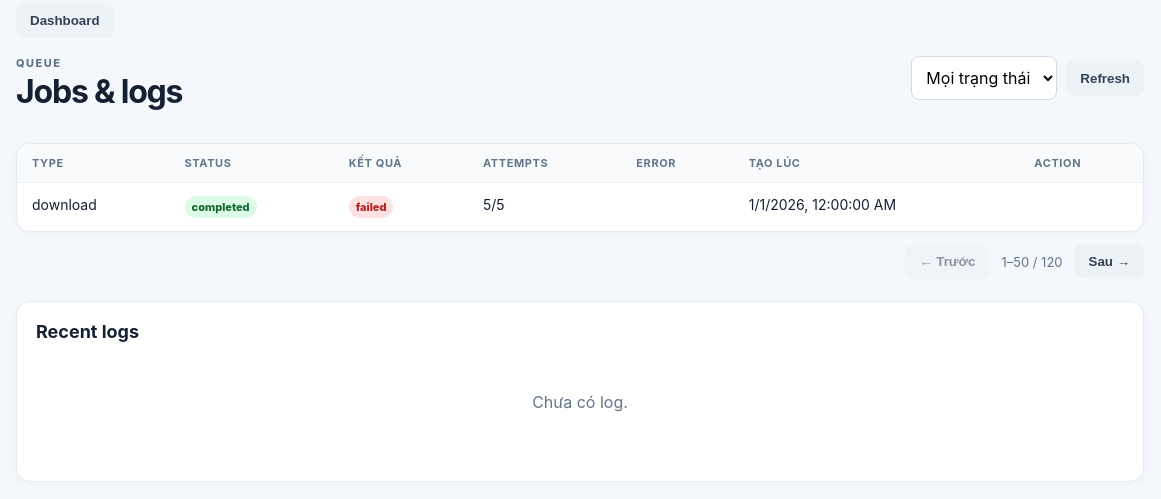
Scenario: JobsPage › loads the next page when paging
This screenshot has width=1161, height=499.
Check: the text "1–50 / 120" is shown, box [1001,254,1062,270]
Click the button "Sau →" at {"x": 1109, "y": 262}, box [1074,244,1144,279]
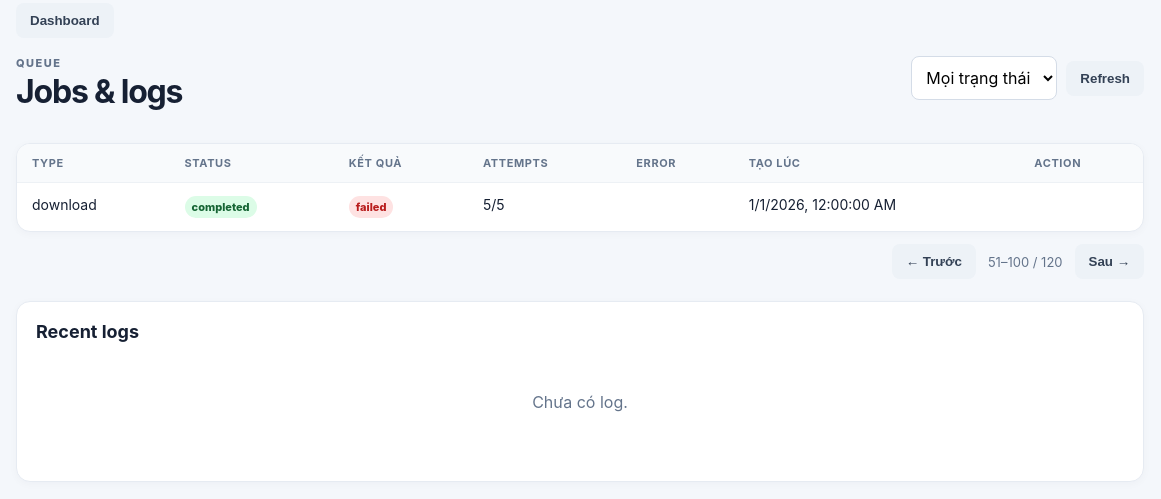
Check: the text "51–100 / 120" is shown, box [988,254,1062,270]
